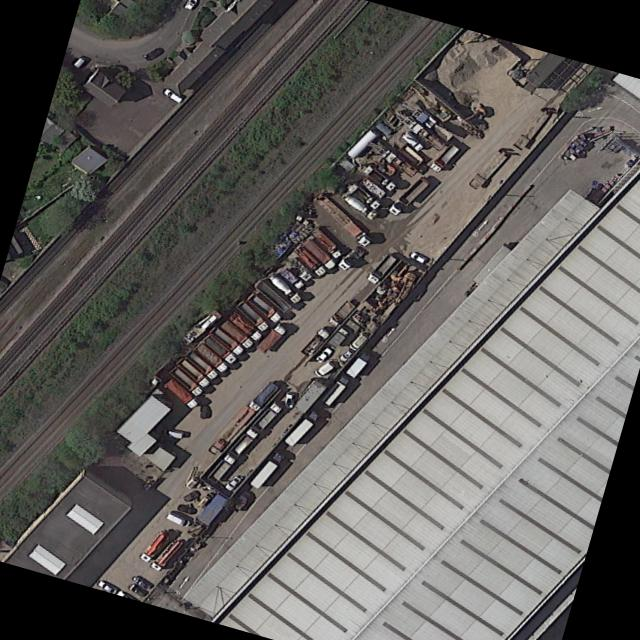large-vehicle: (311, 191, 373, 247), (205, 404, 255, 457), (385, 175, 430, 217), (176, 308, 223, 346), (280, 408, 321, 447), (246, 449, 285, 489), (223, 308, 264, 343), (263, 270, 303, 304), (213, 317, 254, 350), (243, 291, 284, 324), (189, 341, 230, 374), (297, 235, 336, 269), (164, 364, 204, 397), (148, 536, 184, 572), (406, 119, 445, 152), (172, 356, 211, 389), (413, 110, 453, 142), (180, 349, 220, 381), (206, 325, 246, 357), (198, 334, 239, 365), (136, 527, 171, 563), (306, 225, 343, 259), (290, 243, 327, 277), (233, 299, 271, 332), (338, 191, 379, 221), (379, 147, 418, 178), (161, 378, 199, 409), (252, 322, 287, 355), (316, 373, 351, 406), (244, 380, 278, 413), (249, 400, 284, 432), (343, 181, 381, 210), (359, 164, 398, 192), (226, 425, 259, 458), (364, 252, 397, 285), (426, 142, 460, 174), (297, 326, 330, 358), (205, 452, 236, 484), (334, 244, 367, 272), (325, 299, 356, 327), (342, 350, 371, 379), (276, 267, 305, 290), (324, 326, 348, 350), (399, 130, 425, 152), (345, 332, 369, 352)
small-vehicle: (163, 510, 190, 528), (312, 360, 334, 377), (161, 87, 183, 103), (141, 46, 163, 62), (129, 574, 150, 590), (406, 251, 427, 265), (222, 475, 240, 491), (313, 347, 331, 363), (125, 583, 145, 597), (161, 427, 183, 439), (175, 503, 194, 515), (180, 490, 198, 502), (71, 55, 86, 69), (338, 348, 353, 361), (283, 391, 293, 408), (182, 0, 195, 11), (197, 404, 206, 418)
